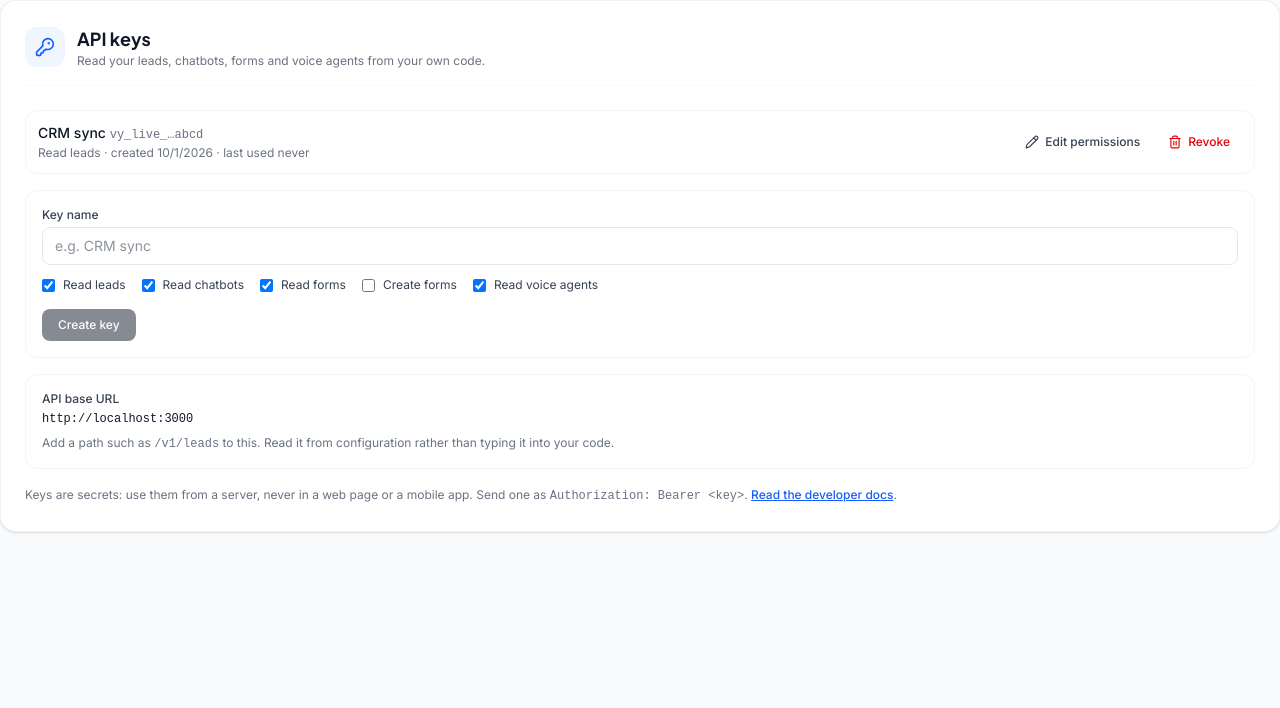
Scenario: ApiKeysSection › leaves the write permission off until it is ticked
Expected: the text "CRM sync" is shown, top-left (38, 124), bottom-right (106, 141)
Click the checkbox labelled "Create forms".
click(368, 285)  # box top-left (362, 278), bottom-right (375, 292)
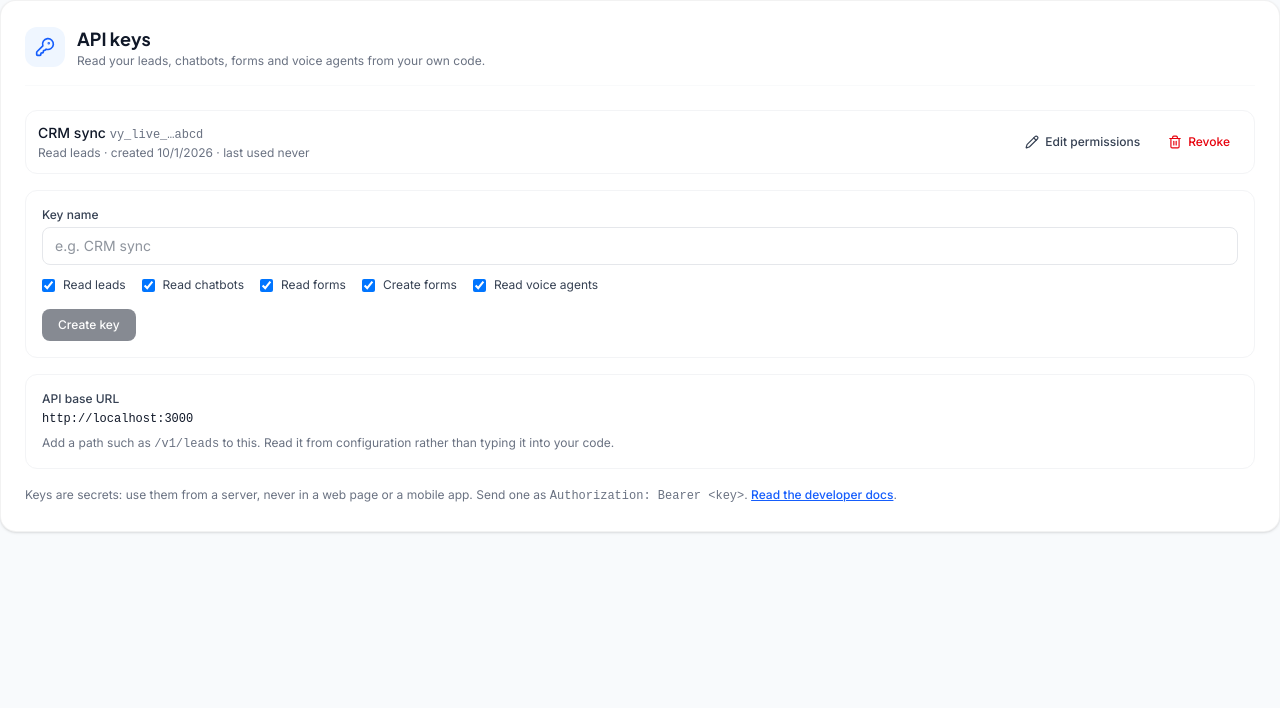
Type "Site builder" into the field labelled "Key name".
click(640, 246); type("Site builder")  # box top-left (42, 227), bottom-right (1238, 265)
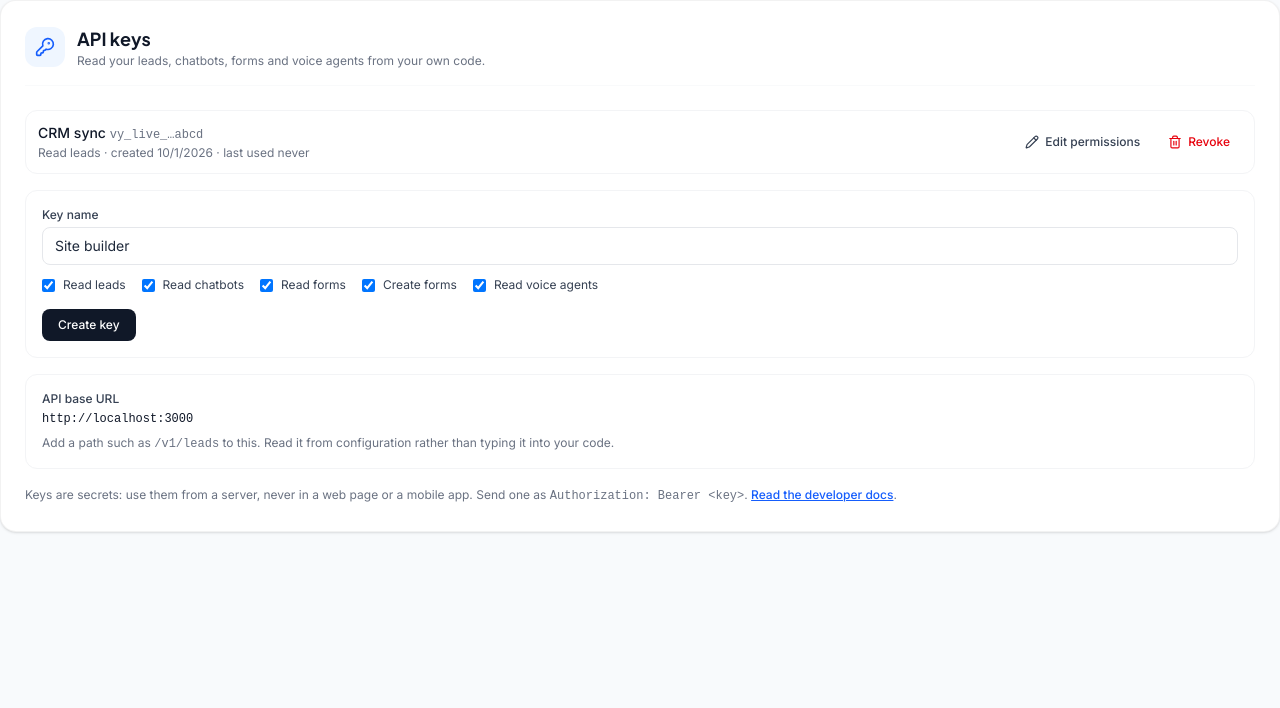
Click the button "Create key".
click(89, 325)  # box top-left (42, 309), bottom-right (136, 341)
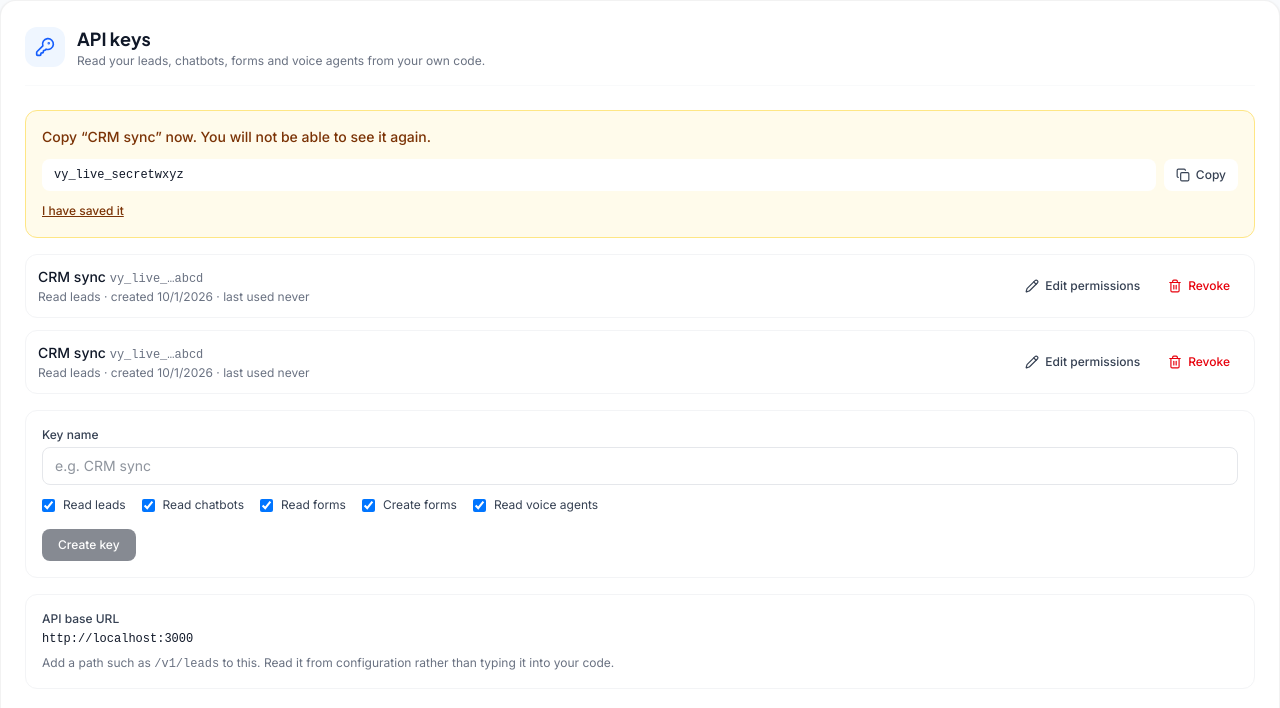
Expected: the text "vy_live_secretwxyz" is shown, top-left (42, 159), bottom-right (1156, 191)
